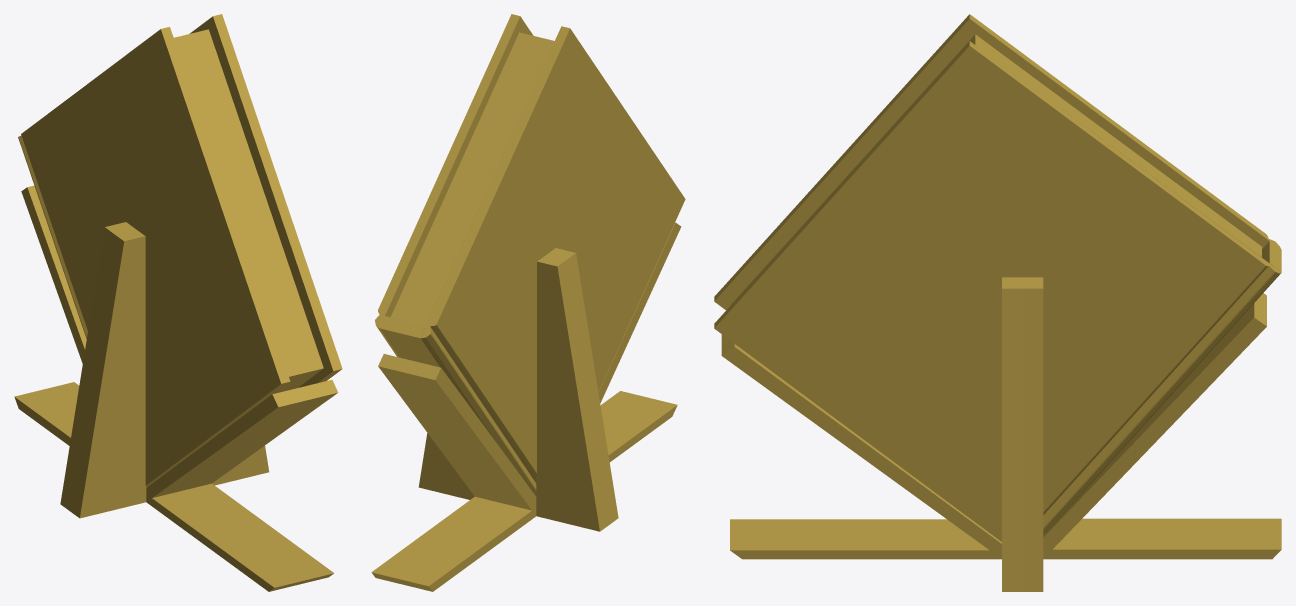
Rendered from BookStand.glb.
3 renders of one model, left to right at view 1: azimuth 30°, elevation 25°; view 2: azimuth 150°, elevation 25°; view 3: azimuth 270°, elevation 25°, orthographic. The views are drawn at different scales.
Parts seen in each view (by area): view 1: Cylinder; view 2: Cylinder; view 3: Cylinder.
Part boxes in pixels (x1,y1,x2,y2): Cylinder: [14, 14, 342, 591]; Cylinder: [371, 14, 685, 591]; Cylinder: [714, 14, 1281, 591].
Size of the model in its own units: 0.2594 by 0.6345 by 0.6345.
